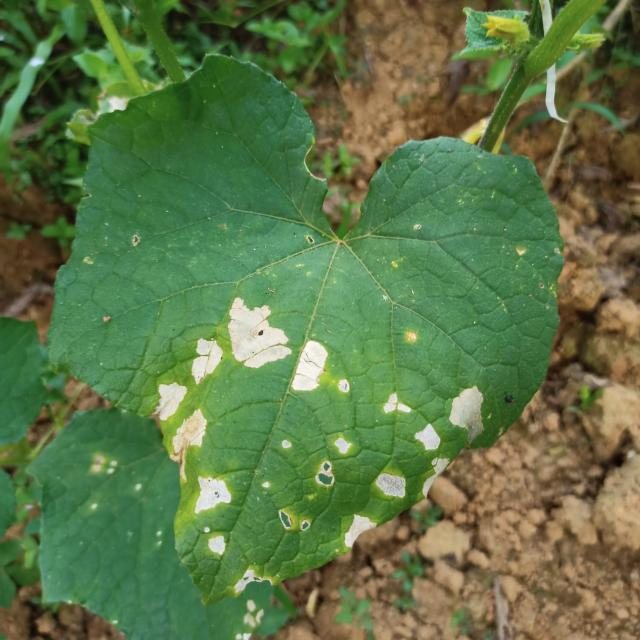disease_cucumber: (226, 292, 332, 393), (379, 384, 492, 456), (154, 378, 212, 456), (195, 473, 236, 563), (308, 437, 359, 488), (187, 336, 223, 384), (337, 511, 376, 549), (368, 468, 409, 502)
